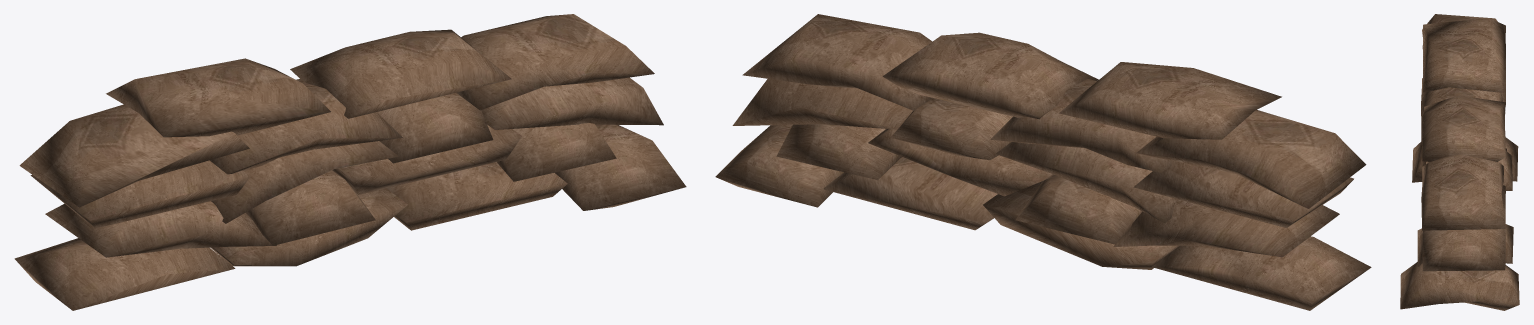
File: base_sb_wall_lod1.glb
The picture shows the model from 3 angles, left to right: view 1: azimuth 30°, elevation 25°; view 2: azimuth 150°, elevation 25°; view 3: azimuth 270°, elevation 25°; orthographic projection. The views are drawn at different scales.
Visible parts, largest first — view 1: base_sb_wall; view 2: base_sb_wall; view 3: base_sb_wall.
Boxes of the visible parts, <box> form: base_sb_wall: <box>14,14,686,310</box>; base_sb_wall: <box>715,14,1371,310</box>; base_sb_wall: <box>1400,14,1519,310</box>.
Size of the model in its own units: 3.33 by 1.06 by 0.8246.
1 material, 1 textured.
